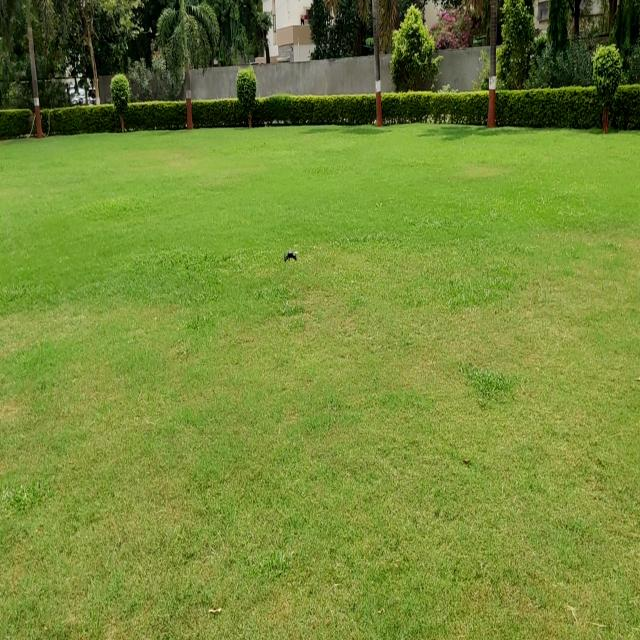drone: (273, 228, 305, 272)
